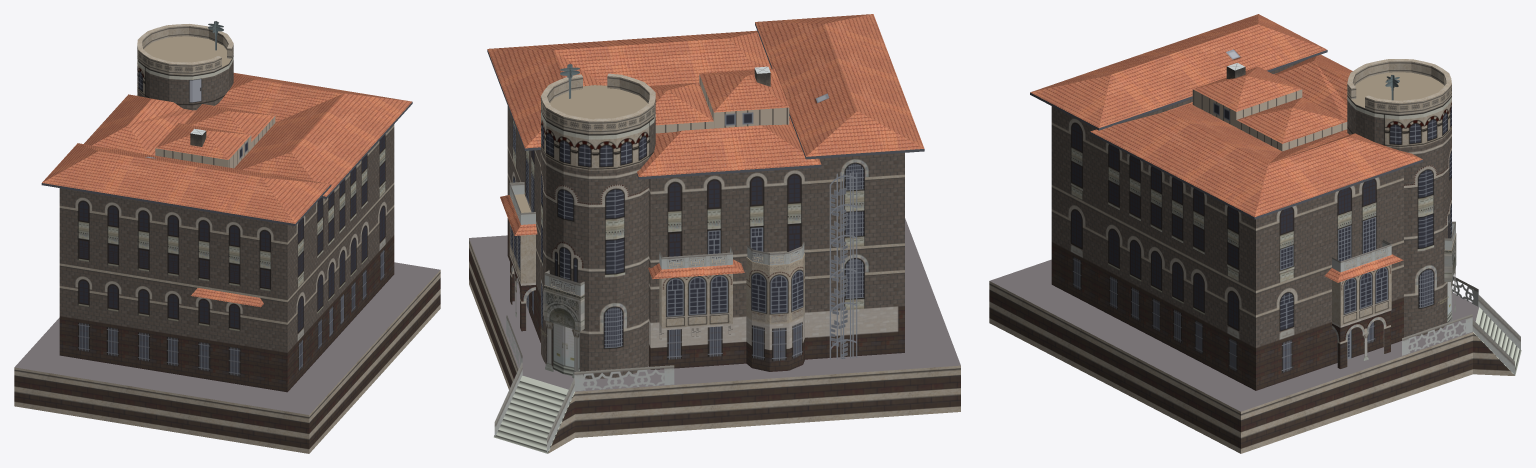
The model's file is izmir_ethnography_museum.glb.
3 views of the same model, side by side, from view 1: azimuth 30°, elevation 25°; view 2: azimuth 150°, elevation 25°; view 3: azimuth 270°, elevation 25° (orthographic). The views are drawn at different scales.
Parts seen in each view (by area): view 1: S_S_0; view 2: S_S_0; view 3: S_S_0.
Boxes of the visible parts, box(x1,y1,x2,y2) form: S_S_0: box(14, 21, 440, 453); S_S_0: box(469, 14, 960, 453); S_S_0: box(989, 14, 1521, 453).
Bounding box in the file's own units: 41.07 × 25.97 × 41.6.
Materials: 1 (1 with a texture image).
